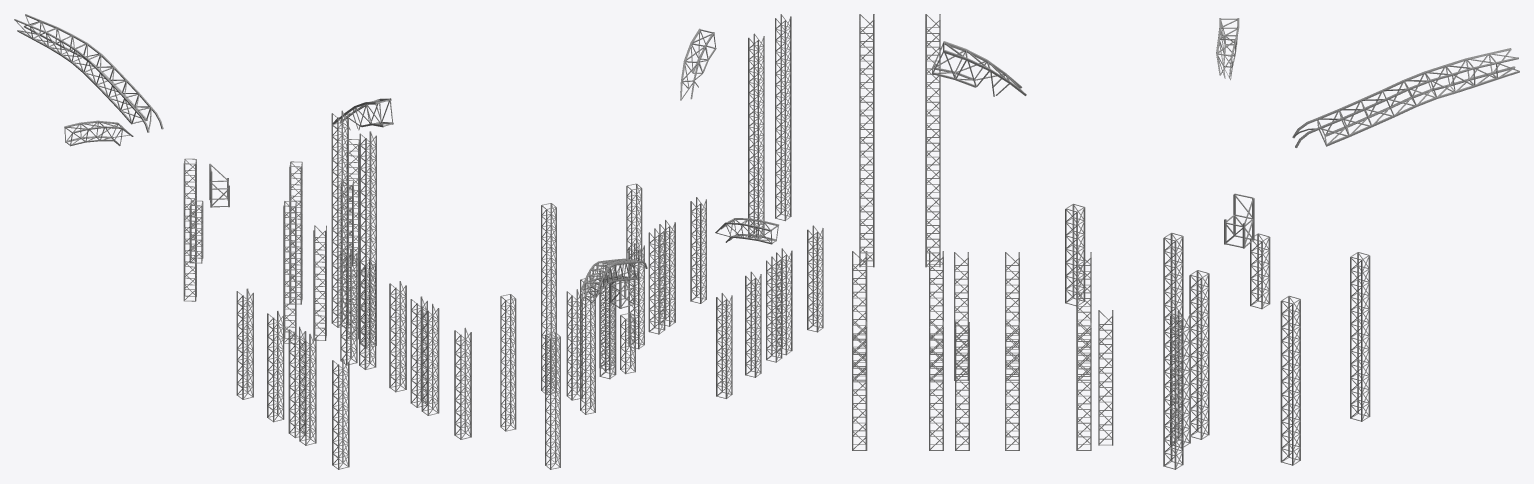
The model's file is field_spring_pillar_frame.fbx.
3 views of the same model, side by side, from view 1: azimuth 30°, elevation 25°; view 2: azimuth 150°, elevation 25°; view 3: azimuth 270°, elevation 25° (orthographic). The views are drawn at different scales.
Visible parts, largest first — view 1: field_spring_pillar_frame; view 2: field_spring_pillar_frame; view 3: field_spring_pillar_frame.
Boxes of the visible parts, x1,y1,x2,y2 form: field_spring_pillar_frame: (14, 14, 471, 469); field_spring_pillar_frame: (500, 14, 823, 469); field_spring_pillar_frame: (852, 14, 1519, 469).
Bounding box in the file's own units: 1591 × 1843 × 2916.
Materials: 1 (1 with a texture image).
